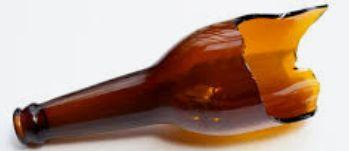glass: (10, 1, 332, 151)
